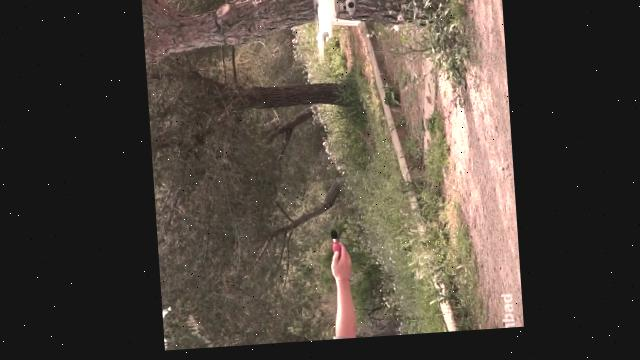drone: (309, 0, 362, 65)
